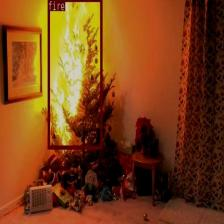fire: (47, 0, 102, 148)
